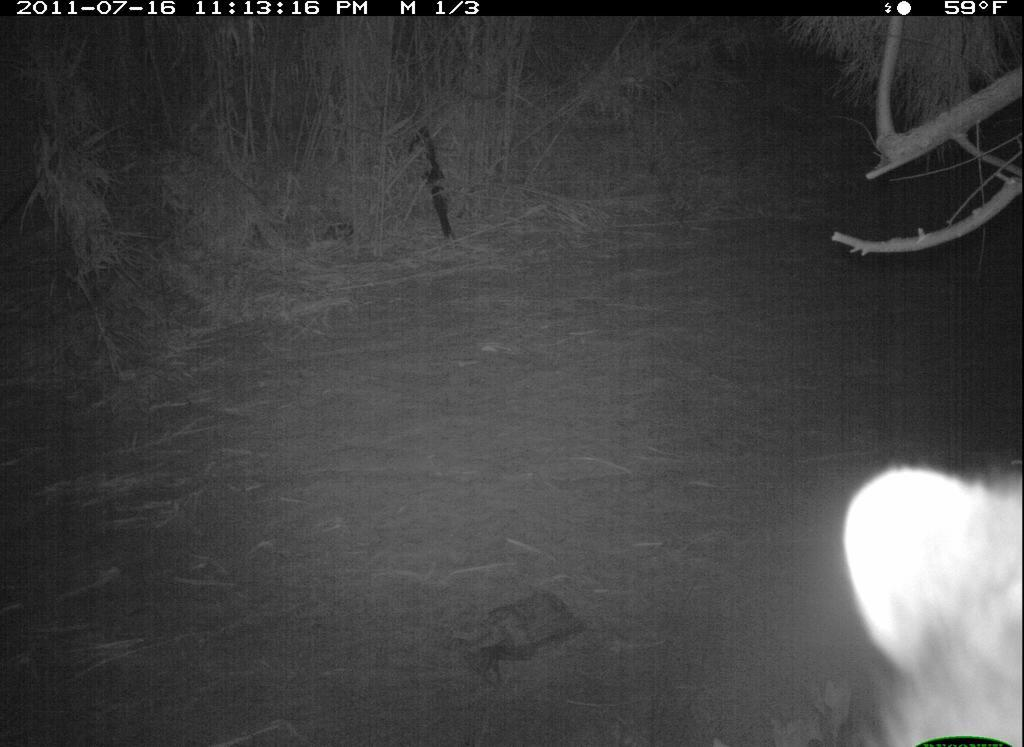raccoon: (820, 446, 1022, 744)
